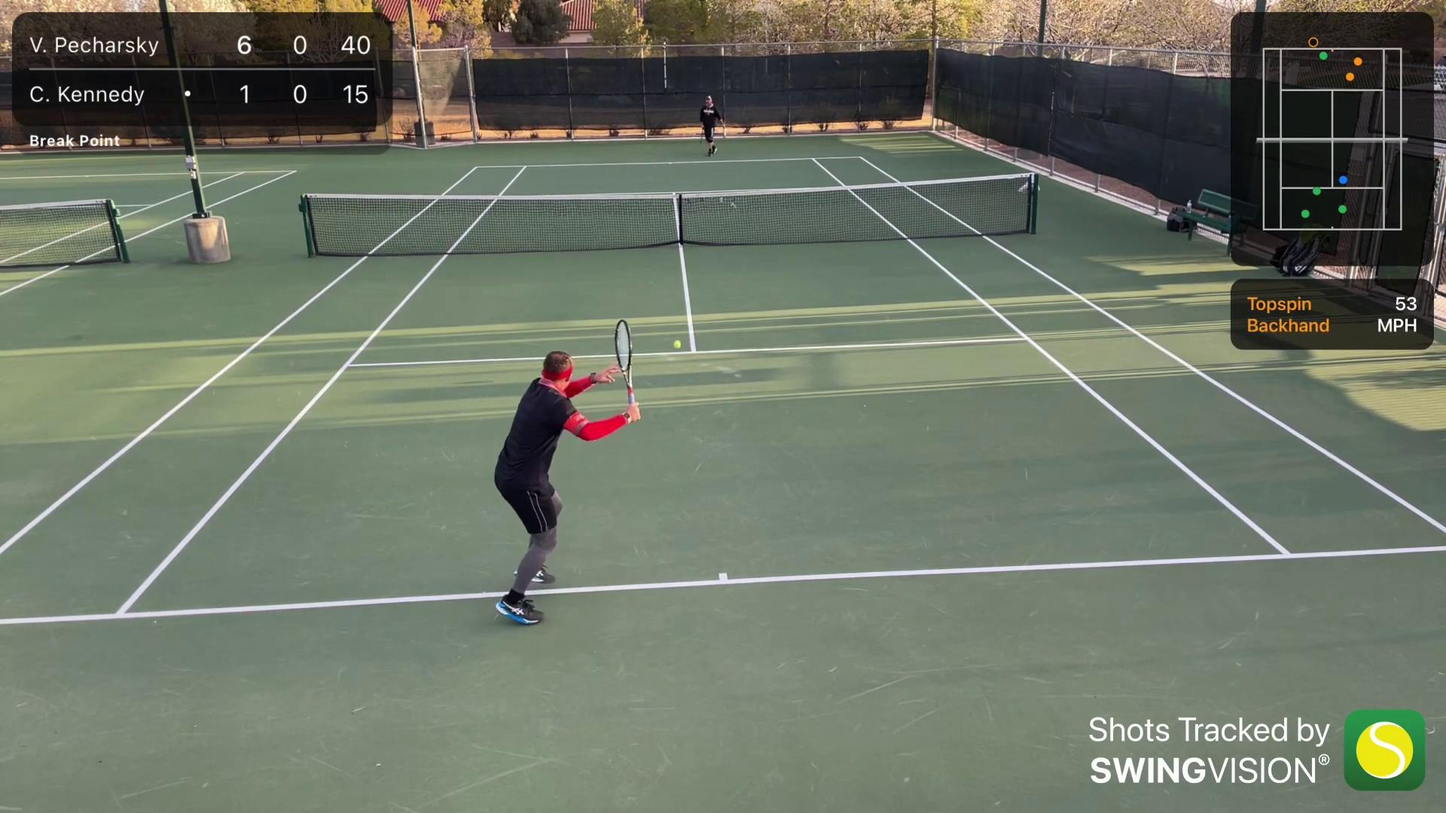ball: (672, 340, 682, 350)
